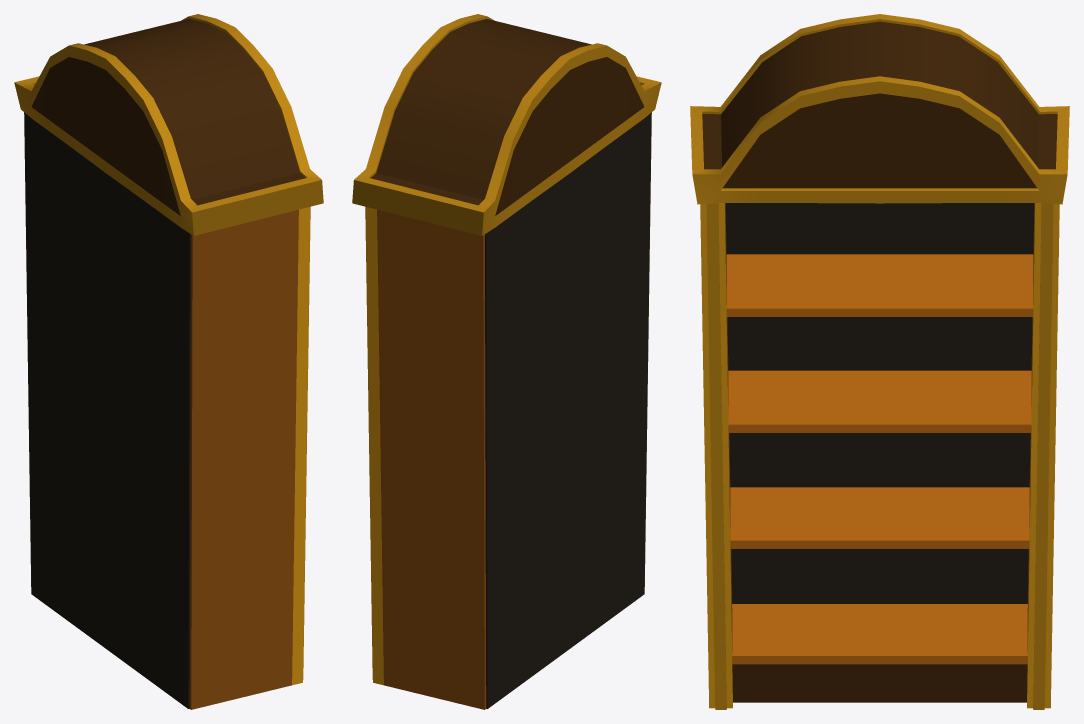
Rendered from Book_Shelf.fbx.
3 views of the same model, side by side, from view 1: azimuth 30°, elevation 25°; view 2: azimuth 150°, elevation 25°; view 3: azimuth 270°, elevation 25° (orthographic). The views are drawn at different scales.
Parts seen in each view (by area): view 1: Book_Shelf; view 2: Book_Shelf; view 3: Book_Shelf.
Part boxes in pixels (x1=…): Book_Shelf: x1=14, y1=14, x2=323, y2=709; Book_Shelf: x1=352, y1=14, x2=661, y2=709; Book_Shelf: x1=690, y1=14, x2=1069, y2=709.
Size of the model in its own units: 0.625 by 2.62 by 1.43.
